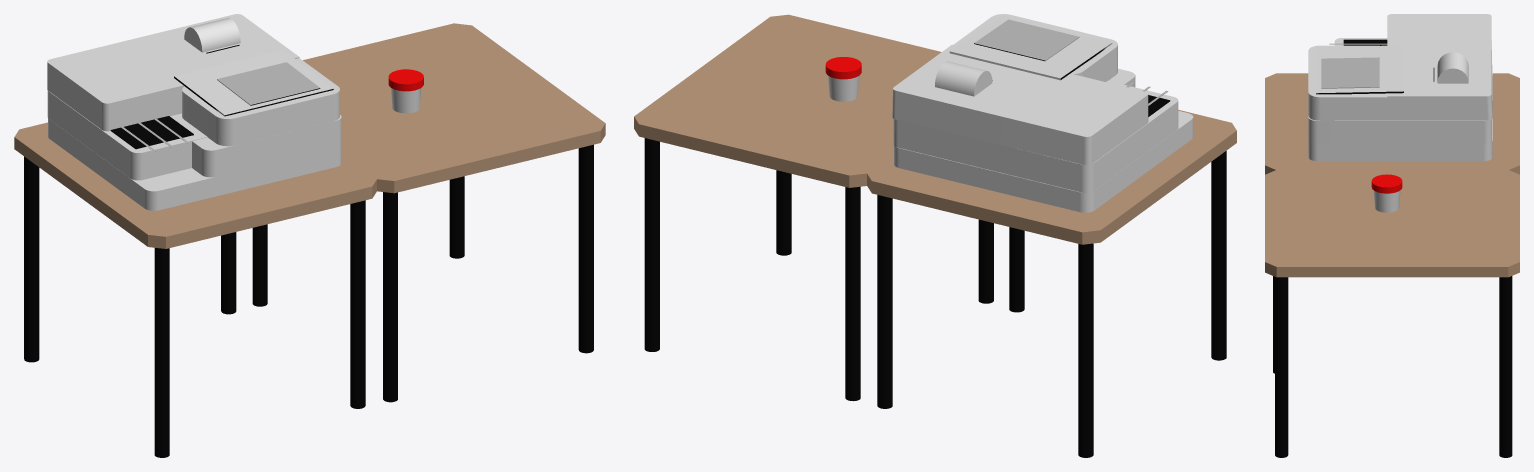
File: UrineTestArea.fbx
The picture shows the model from 3 angles, left to right: view 1: azimuth 30°, elevation 25°; view 2: azimuth 150°, elevation 25°; view 3: azimuth 270°, elevation 25°; orthographic projection. The views are drawn at different scales.
Visible parts, largest first — view 1: TableLeg_2.004; view 2: TableLeg_2.004; view 3: TableLeg_2.004.
Part boxes in pixels (bbox=[...]): TableLeg_2.004: bbox=[14, 14, 605, 457]; TableLeg_2.004: bbox=[634, 14, 1236, 457]; TableLeg_2.004: bbox=[1265, 14, 1519, 457].
Size of the model in its own units: 207 by 139 by 115.
Materials: 1 (1 with a texture image).
